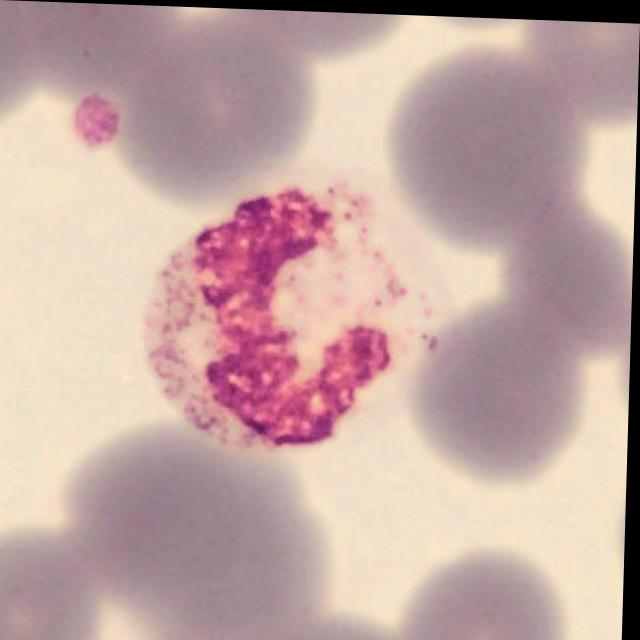Neutrofilo segmentado: (144, 183, 430, 447)
